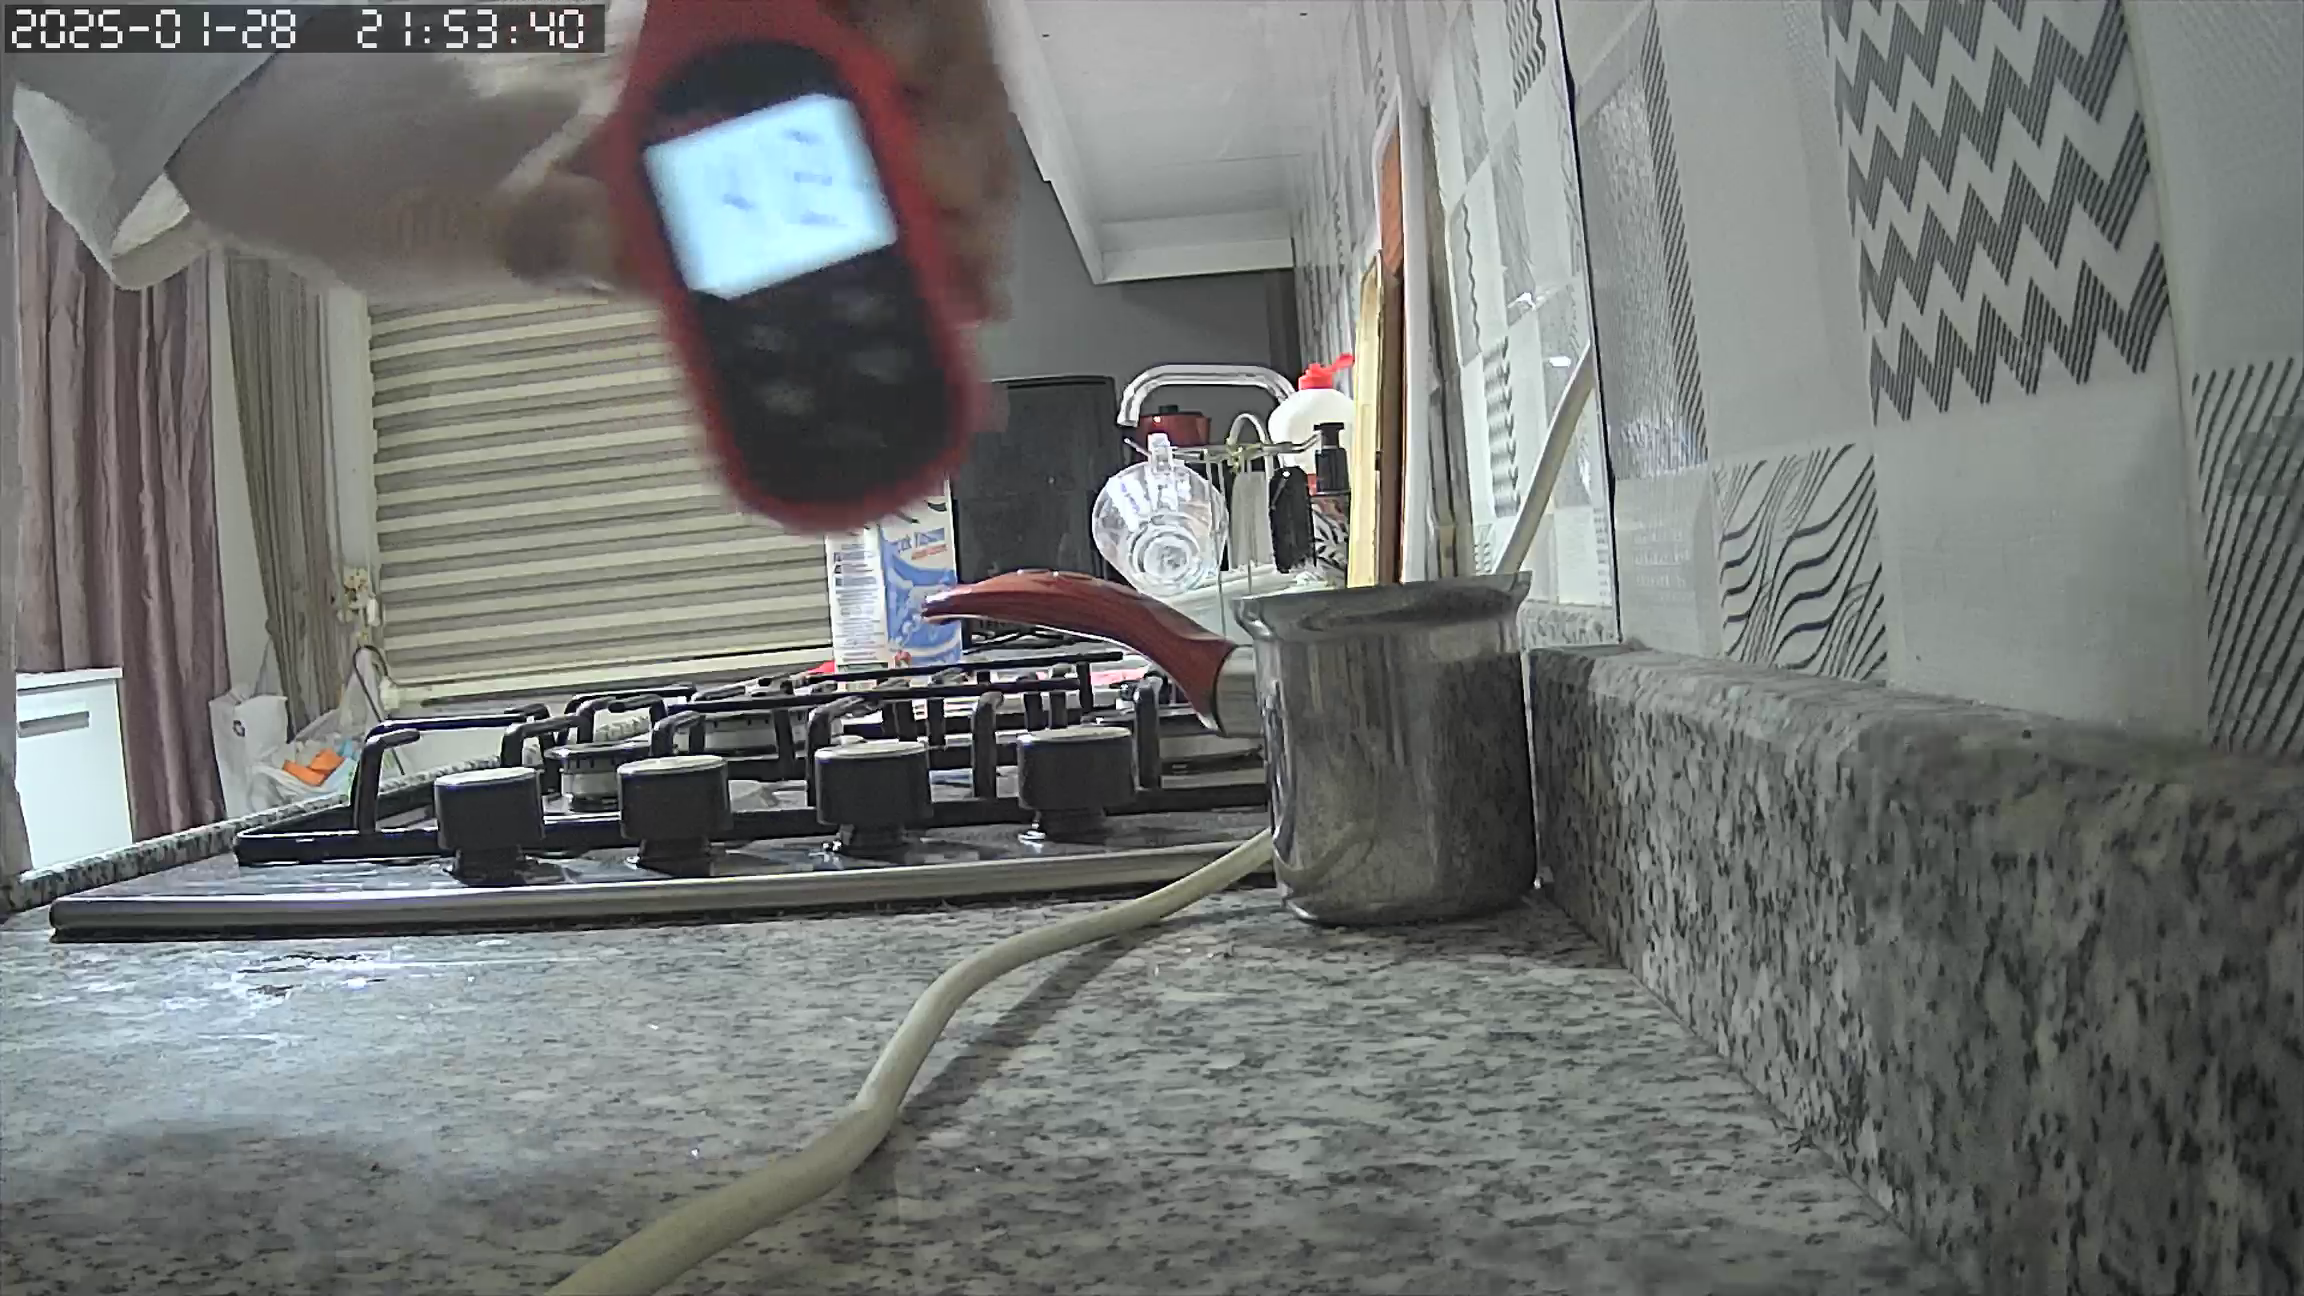screen: (642, 93, 889, 297)
